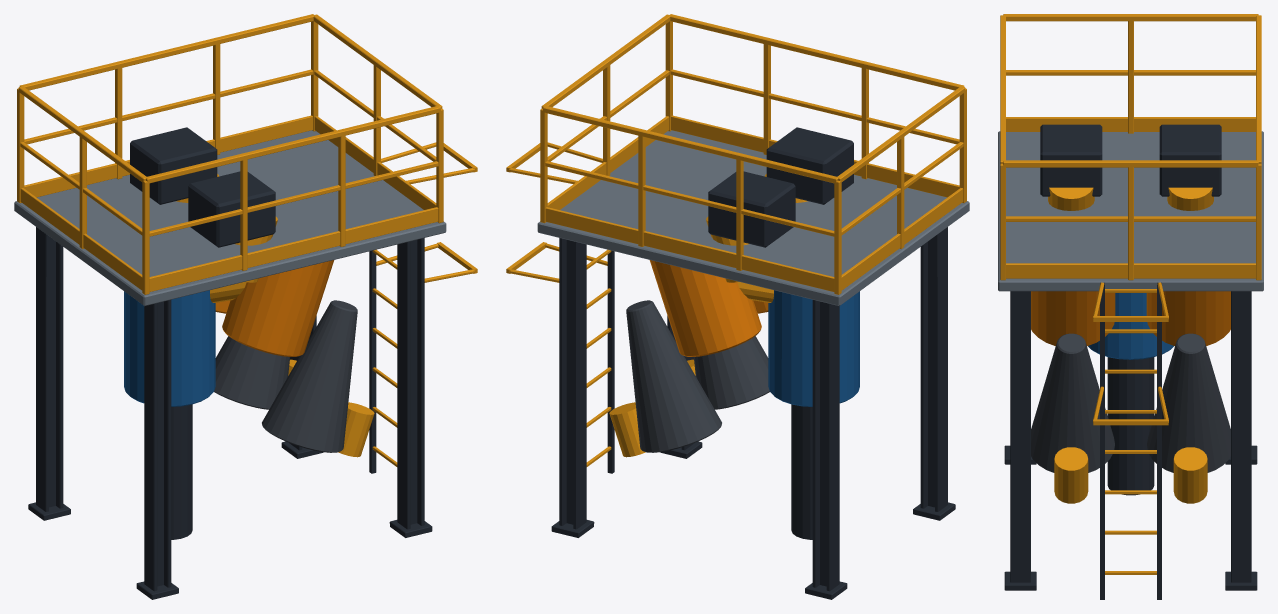
File: dmc_cyclone_dmc301.glb
3 views of the same model, side by side, from view 1: azimuth 30°, elevation 25°; view 2: azimuth 150°, elevation 25°; view 3: azimuth 270°, elevation 25° (orthographic). The views are drawn at different scales.
Parts seen in each view (by area): view 1: DMC_ApexSpigot_A; view 2: DMC_ApexSpigot_A; view 3: DMC_ApexSpigot_A.
Part boxes in pixels (x1=…): DMC_ApexSpigot_A: x1=14, y1=14, x2=477, y2=599; DMC_ApexSpigot_A: x1=506, y1=14, x2=969, y2=599; DMC_ApexSpigot_A: x1=998, y1=14, x2=1263, y2=599.
Size of the model in its own units: 3.45 by 3.68 by 2.05.
Materials: 1 (1 with a texture image).
